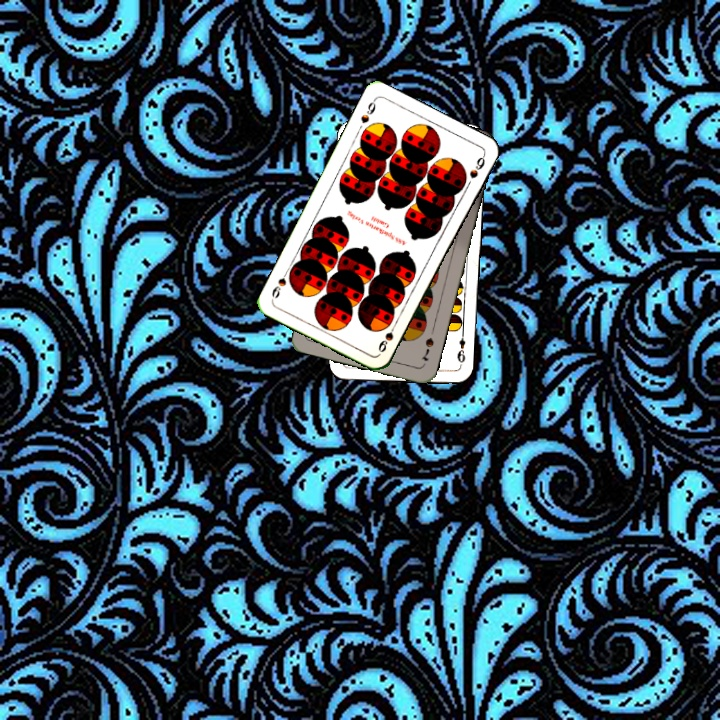E9: (453, 327, 468, 368)
S7: (418, 334, 436, 364)
S9: (374, 318, 399, 355), (357, 95, 378, 126)
